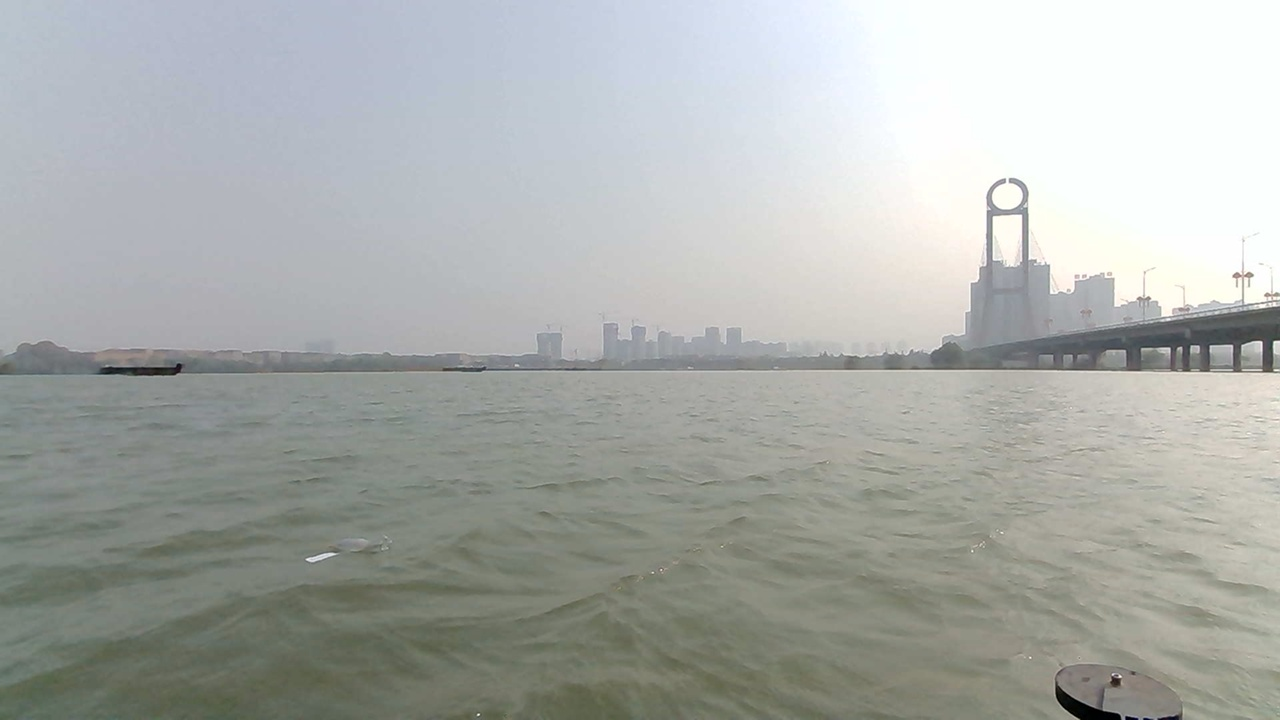bottle: (244, 521, 402, 589)
